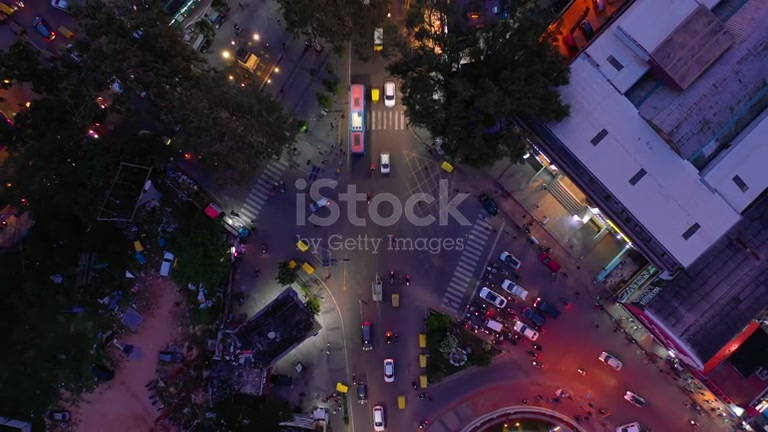car: (598, 350, 623, 371)
